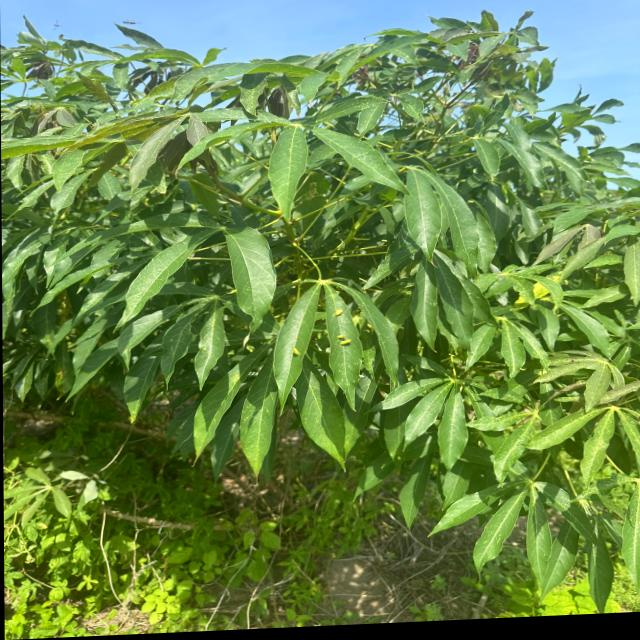Maleza: (89, 496, 353, 624), (4, 452, 187, 632)
Mosca: (333, 329, 352, 350), (332, 305, 349, 320), (289, 343, 303, 361)
